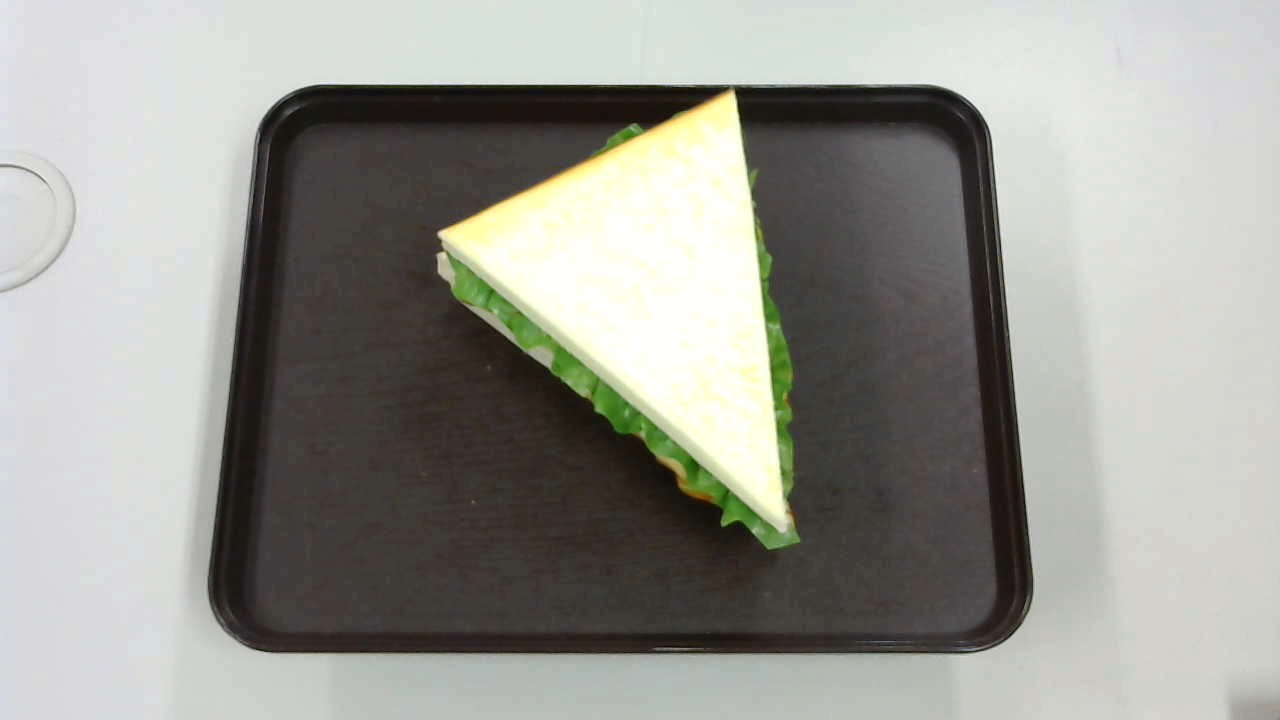sandwich: (436, 89, 801, 552)
